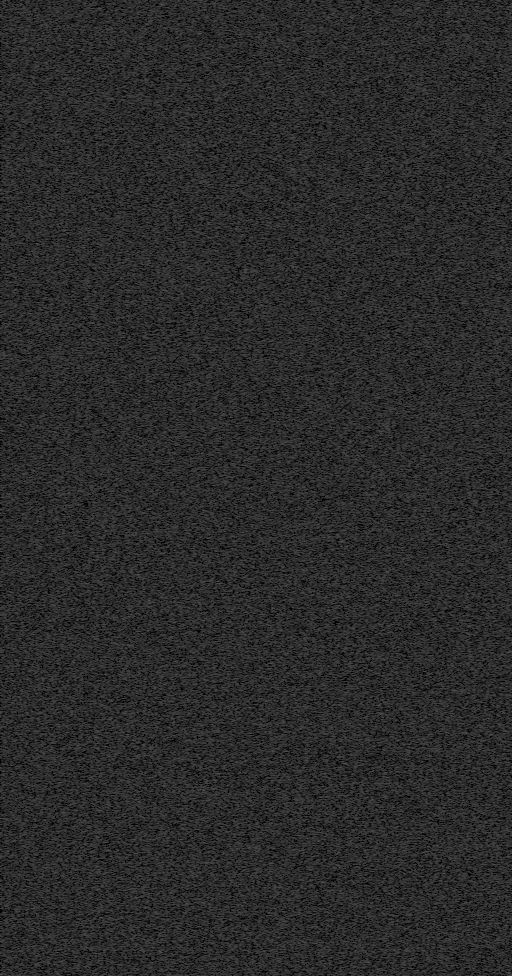wv_am: (460, 0, 465, 976), (53, 0, 58, 976)
wv_cw: (65, 0, 69, 976)
wv_lsb: (391, 190, 396, 414), (391, 557, 396, 762), (327, 251, 332, 365), (391, 765, 396, 876), (391, 877, 396, 975), (391, 415, 396, 463), (327, 210, 332, 250), (327, 584, 332, 617), (391, 524, 396, 556), (327, 533, 332, 565), (391, 5, 396, 35), (327, 124, 332, 153), (391, 469, 396, 498), (327, 174, 332, 202), (392, 71, 396, 102), (328, 780, 332, 810), (327, 472, 332, 493), (327, 494, 332, 513), (327, 59, 332, 77), (327, 39, 332, 57), (391, 36, 396, 54), (327, 618, 332, 636), (327, 877, 332, 894), (327, 848, 332, 864), (327, 832, 332, 847), (391, 499, 396, 513), (327, 918, 332, 932), (328, 762, 332, 779), (327, 815, 332, 828), (328, 638, 332, 654), (328, 422, 331, 442), (328, 661, 332, 675), (327, 865, 332, 876), (327, 514, 332, 525), (391, 60, 396, 70), (327, 156, 332, 165), (327, 29, 332, 38), (391, 180, 396, 189), (327, 462, 332, 471), (327, 381, 332, 390), (328, 895, 332, 906), (327, 88, 332, 96), (327, 20, 332, 28), (327, 6, 332, 14), (328, 907, 332, 917), (327, 166, 332, 173), (327, 108, 332, 115), (327, 99, 332, 106), (327, 454, 332, 461), (327, 444, 332, 451), (328, 960, 331, 971), (328, 936, 331, 947), (328, 566, 332, 574), (327, 203, 332, 209), (327, 117, 332, 123), (327, 78, 332, 84), (392, 153, 395, 163), (392, 129, 395, 138), (328, 366, 332, 372), (328, 949, 332, 955), (328, 744, 331, 752), (328, 708, 331, 716), (328, 392, 331, 400), (392, 166, 395, 173), (392, 104, 395, 111), (328, 373, 331, 380), (327, 15, 332, 19), (391, 519, 396, 523), (391, 514, 396, 518), (328, 688, 332, 693), (327, 578, 332, 582), (327, 401, 332, 405), (328, 719, 331, 725), (392, 148, 396, 152), (392, 55, 396, 59), (328, 756, 332, 760), (391, 465, 396, 468), (328, 738, 331, 743), (328, 679, 331, 684), (328, 655, 331, 660), (392, 140, 395, 144), (392, 112, 395, 116), (328, 729, 331, 733), (328, 703, 331, 707), (328, 417, 331, 421), (328, 406, 331, 410), (392, 174, 395, 177), (392, 117, 395, 120), (328, 973, 331, 976), (328, 956, 331, 959), (328, 811, 331, 814), (328, 734, 331, 737), (328, 526, 331, 529)
wv_usb: (4, 447, 9, 620), (4, 621, 9, 739), (4, 84, 9, 201), (4, 274, 9, 356), (4, 5, 9, 83), (4, 202, 9, 273), (4, 873, 9, 924), (4, 740, 9, 786), (4, 405, 9, 446), (4, 940, 9, 976), (4, 833, 9, 866), (4, 376, 9, 404), (4, 787, 9, 810), (4, 357, 9, 375), (4, 811, 9, 822), (4, 823, 9, 832), (5, 929, 9, 934), (5, 867, 9, 872), (5, 935, 9, 939), (5, 925, 9, 928)
wv_wbfm: (411, 0, 450, 976), (85, 0, 123, 976), (248, 0, 277, 976)
